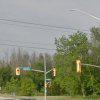Tree: (46, 22, 100, 86)
